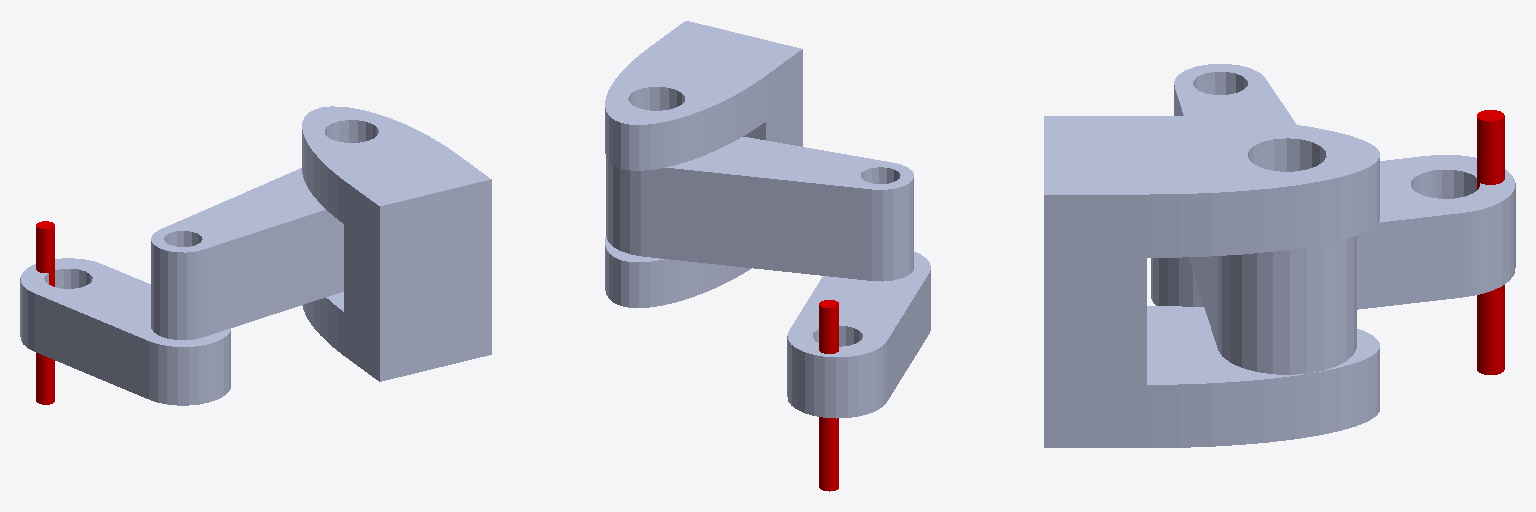
The robot description file, URDF, robot "2rr":
<?xml version="1.0" encoding="utf-8"?>
<!-- This URDF was automatically created by SolidWorks to URDF Exporter! Originally created by [author] ([email redacted]) 
     Commit Version: 1.6.0-1-g15f4949  Build Version: 1.6.7594.29634
     For more information, please see http://wiki.ros.org/sw_urdf_exporter -->
<robot
  name="2rr">
      <!-- Colors --> 
    <material name="red">
        <color rgba="0.925 0 0 1"/>
    </material>

  <link name="world"/>

  <joint name="fixed" type="fixed">
    <parent link="world"/>
    <child link="base"/>
  </joint>

  <link
    name="base">
    <inertial>
      <origin
        xyz="0.199999712531253 0.243083213885683 0.299999282701517"
        rpy="0 0 0" />
      <mass
        value="93.1153809750007" />
      <inertia
        ixx="6.82321659280708"
        ixy="1.60309358254392E-05"
        ixz="-1.94703266181187E-06"
        iyy="4.86356688751049"
        iyz="1.986637125917E-05"
        izz="4.28554764294533" />
    </inertial>
    <visual>
      <origin
        xyz="0 0 0"
        rpy="0 0 0" />
      <geometry>
        <mesh
          filename="package://2rr/meshes/base.STL" />
      </geometry>
      <material
        name="">
        <color
          rgba="0.792156862745098 0.819607843137255 0.933333333333333 1" />
      </material>
    </visual>
    <collision>
      <origin
        xyz="0 0 0"
        rpy="0 0 0" />
      <geometry>
        <mesh
          filename="package://2rr/meshes/base.STL" />
      </geometry>
    </collision>
  </link>
  <link
    name="crank">
    <inertial>
      <origin
        xyz="-0.303528572159264 -3.90389536477076E-05 -5.55111512312578E-17"
        rpy="0 0 0" />
      <mass
        value="58.0525911841925" />
      <inertia
        ixx="0.77823635533177"
        ixy="0.000902613512986233"
        ixz="3.38994043004869E-17"
        iyy="3.79835542461403"
        iyz="-6.59086177629824E-18"
        izz="3.70580291218291" />
    </inertial>
    <visual>
      <origin
        xyz="0 0 0"
        rpy="0 0 0" />
      <geometry>
        <mesh
          filename="package://2rr/meshes/crank.STL" />
      </geometry>
      <material
        name="">
        <color
          rgba="0.792156862745098 0.819607843137255 0.933333333333333 1" />
      </material>
    </visual>
    <collision>
      <origin
        xyz="0 0 0"
        rpy="0 0 0" />
      <geometry>
        <mesh
          filename="package://2rr/meshes/crank.STL" />
      </geometry>
    </collision>
  </link>
  <joint
    name="R1"
    type="revolute">
    <origin
      xyz="0.2 0.52 0.3"
      rpy="0 0 0.20552" />
    <parent
      link="base" />
    <child
      link="crank" />
    <axis
      xyz="0 0 1" />
    <dynamics damping="0.1" friction="0"/>
<limit effort="300" lower="-0.523599" upper="0.523599" velocity="12"/>
<safety_controller k_position="100" k_velocity="100" soft_lower_limit="-10.5236" soft_upper_limit="10.5236"/>

  </joint>
  <link
    name="arm">
    <inertial>
      <origin
        xyz="5.55111512312578E-17 -0.25 -0.1"
        rpy="0 0 0" />
      <mass
        value="37.068583470577" />
      <inertia
        ixx="1.70992978035148"
        ixy="-4.16333634234434E-17"
        ixz="1.66703545697614E-18"
        iyy="0.418143313440416"
        iyz="4.64689549258995E-17"
        izz="1.88094920398805" />
    </inertial>
    <visual>
      <origin
        xyz="0 0 0"
        rpy="0 0 0" />
      <geometry>
        <mesh
          filename="package://2rr/meshes/arm.STL" />
      </geometry>
      <material
        name="">
        <color
          rgba="0.792156862745098 0.819607843137255 0.933333333333333 1" />
      </material>
    </visual>
    <collision>
      <origin
        xyz="0 0 0"
        rpy="0 0 0" />
      <geometry>
        <mesh
          filename="package://2rr/meshes/arm.STL" />
      </geometry>
    </collision>
  </link>
  <joint
    name="r2"
    type="revolute">
    <origin
      xyz="-0.7 0 -0.15"
      rpy="0 0 -3.0804" />
    <parent
      link="crank" />
    <child
      link="arm" />
    <axis
      xyz="0 0 -1" />
    <limit
      lower="-1.57"
      upper="1.57"
      effort="0"
      velocity="0" />
  </joint>
  
	<!-- endEffector -->
	<link name="EndEffector">
	<visual>
	    <geometry>
		<cylinder radius="0.030" length="0.60"/>
		<origin rpy="0 0 0" xyz="0 0 0.125"/>
	    </geometry>
	    <material name="red"/>
	</visual>

<collision> 
             <geometry> 
                <cylinder radius="0.065" length="0.125"/>
                <origin rpy="0 0 0" xyz="0 0 0.065"/>
            </geometry>
        </collision> 

	<inertial> 
	    <mass value="0"/>
	    <inertia ixx="0" ixy="0" ixz="0" iyy="0" iyz="0" izz="0"/>
	</inertial> 
  
	</link>
  <joint
    name="r3"
    type="fixed">
    <origin
      xyz="0.0 -0.6 -0.15"
      rpy="0 0 -3.0804" />
    <parent
      link="arm" />
    <child
      link="EndEffector" />
    <axis
      xyz="0 0 -1" />
  </joint>


  <gazebo>
    <plugin name="object_controller" filename="libgazebo_ros_planar_move.so">
      <commandTopic>cmd_vel</commandTopic>
      <odometryTopic>odom</odometryTopic>
      <odometryFrame>odom</odometryFrame>
      <odometryRate>20.0</odometryRate>
      <robotBaseFrame>base</robotBaseFrame>
    </plugin>
  </gazebo>
</robot>

--- Facts derived from the render (not from the file) ---
3 views of the same robot in one strip: view 1: azimuth 30°, elevation 25°; view 2: azimuth 150°, elevation 25°; view 3: azimuth 270°, elevation 25° (orthographic).
Model 2rr with 5 links and 4 joints (2 revolute, 2 fixed), rooted at world, posed every joint at zero.
Visible links, largest first — view 1: base, crank, arm, EndEffector; view 2: crank, base, arm, EndEffector; view 3: base, crank, arm, EndEffector.
Link boxes in pixels (x1,y1,x2,y2): base: (302, 106, 491, 381); crank: (151, 168, 343, 339); arm: (20, 258, 230, 405); EndEffector: (36, 221, 54, 404); crank: (606, 137, 913, 281); base: (605, 21, 802, 307); arm: (787, 252, 930, 418); EndEffector: (819, 300, 838, 491); base: (1044, 116, 1379, 447); crank: (1174, 64, 1356, 374); arm: (1151, 155, 1515, 309); EndEffector: (1477, 110, 1504, 374).
Bounding box of the posed robot: 1.17 × 1.01 × 0.9 m (x, y, z).
3 mesh visuals loaded from 3 distinct referenced files (3 binary STL).
